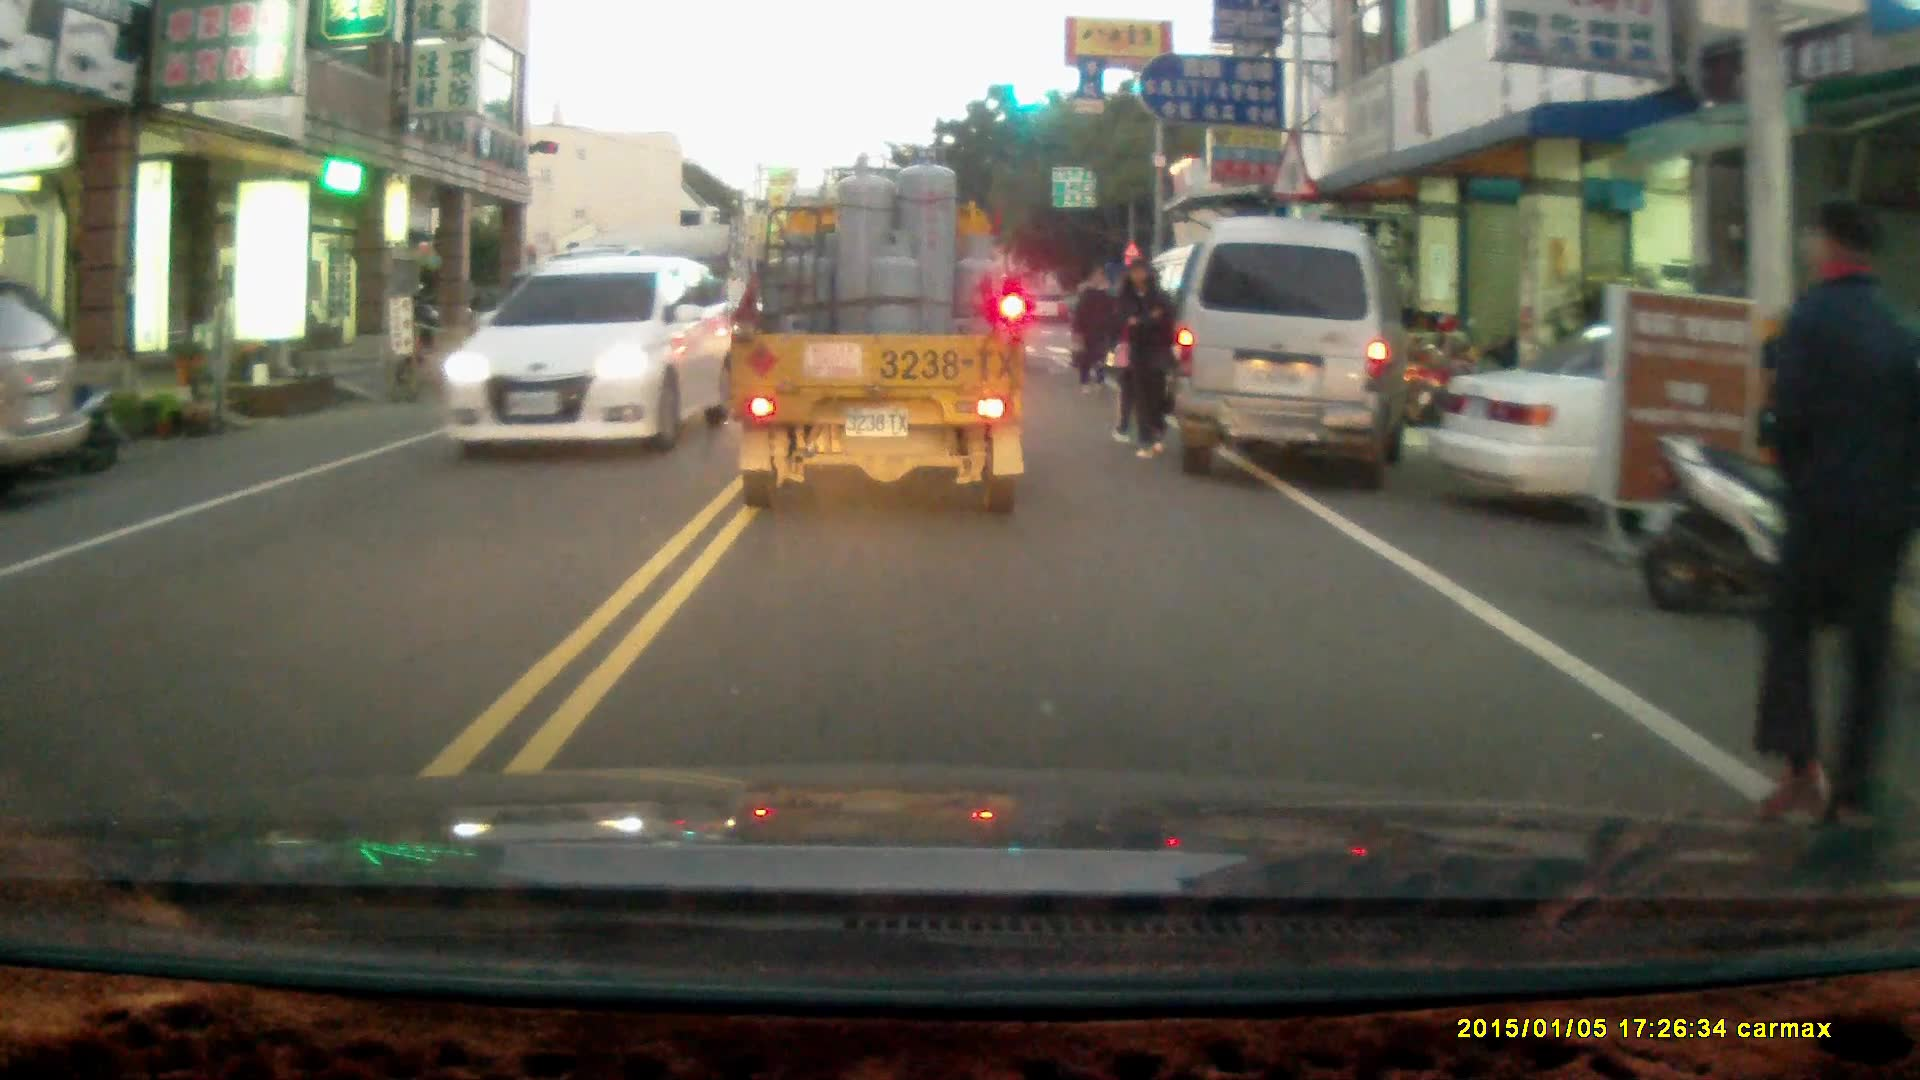pedestrian: (1745, 200, 1920, 839), (1113, 255, 1171, 459), (1071, 259, 1121, 395)
vehicle: (723, 150, 1028, 512), (1421, 316, 1904, 539), (1169, 210, 1414, 480), (444, 252, 722, 447), (1, 275, 95, 475)
